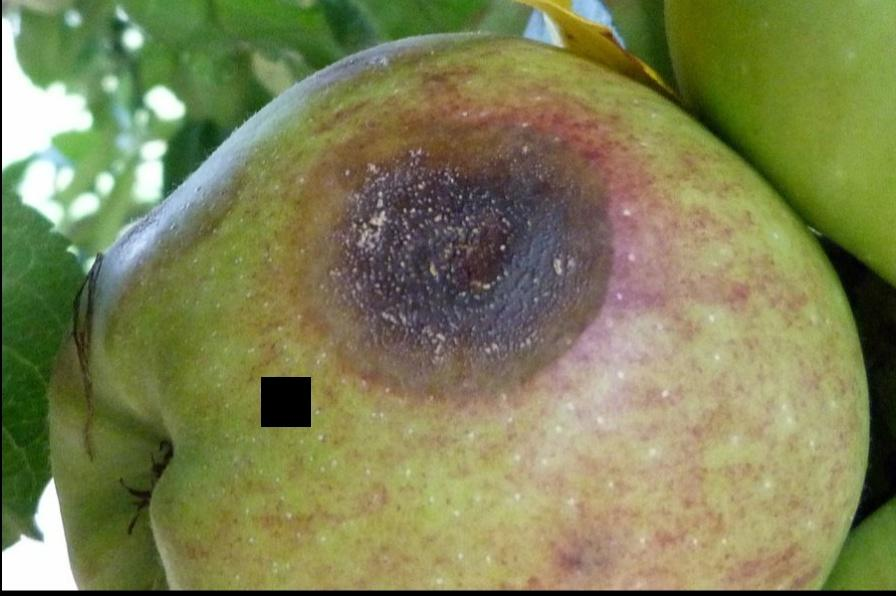rotten apple: (46, 32, 862, 590)
